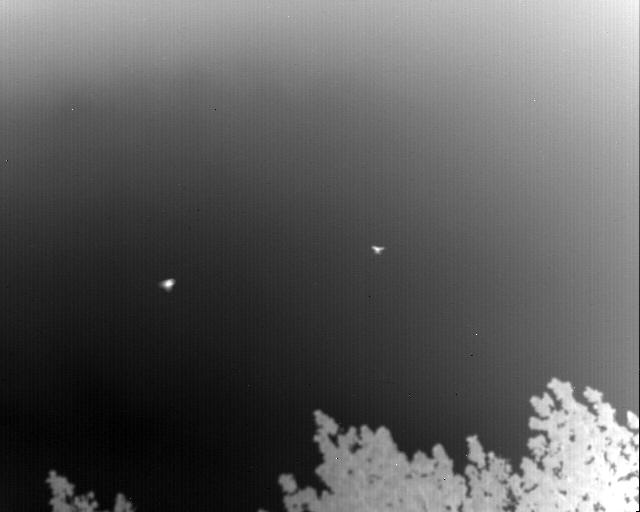plane: (371, 245, 385, 255)
